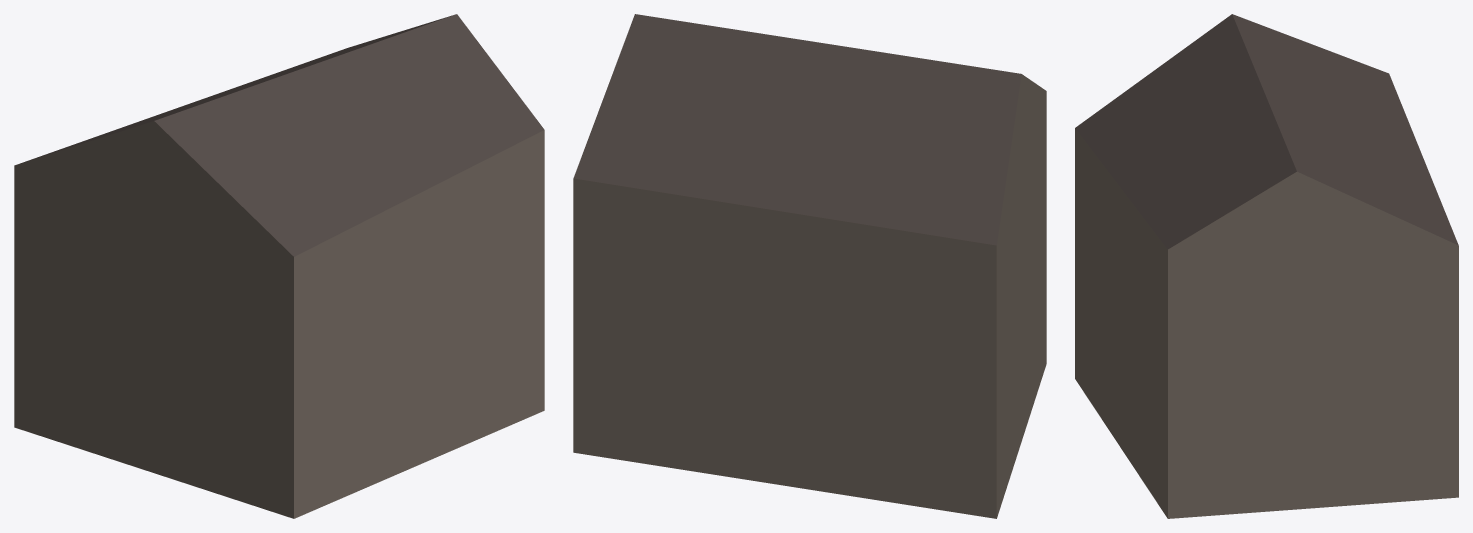
3 renders of one model, left to right at view 1: azimuth 30°, elevation 25°; view 2: azimuth 150°, elevation 25°; view 3: azimuth 270°, elevation 25°, orthographic. The views are drawn at different scales.
Visible parts, largest first — view 1: HP-w1365659934; view 2: HP-w1365659934; view 3: HP-w1365659934.
Part boxes in pixels (x1,y1,x2,y2): HP-w1365659934: (14,14,544,518); HP-w1365659934: (573,14,1046,518); HP-w1365659934: (1075,14,1458,518).
Size of the model in its own units: 9.95 by 8.07 by 8.3.
